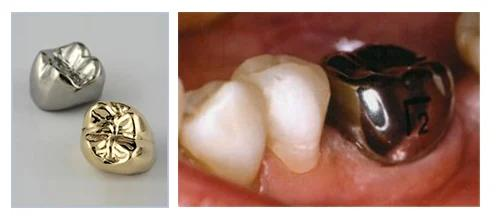crown: (319, 33, 460, 157), (74, 94, 156, 172), (25, 40, 111, 106)
